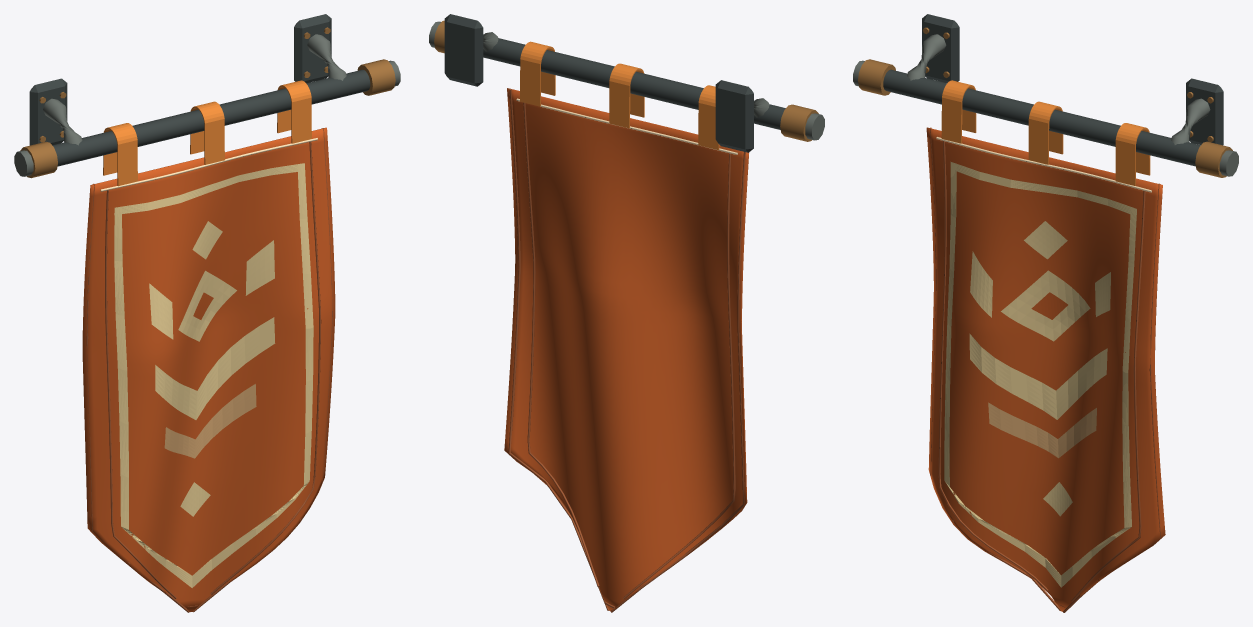
Rendered from wsc-prop-016-town-banner.glb.
3 renders of one model, left to right at view 1: azimuth 30°, elevation 25°; view 2: azimuth 150°, elevation 25°; view 3: azimuth 330°, elevation 25°, orthographic. The views are drawn at different scales.
Visible parts, largest first — view 1: wsc-prop-016-town-banner; view 2: wsc-prop-016-town-banner; view 3: wsc-prop-016-town-banner.
Part boxes in pixels (x1,y1,x2,y2): wsc-prop-016-town-banner: [14, 14, 400, 612]; wsc-prop-016-town-banner: [429, 14, 824, 612]; wsc-prop-016-town-banner: [853, 14, 1238, 612].
Bounding box in the file's own units: 1.8 × 2.56 × 0.3554.
